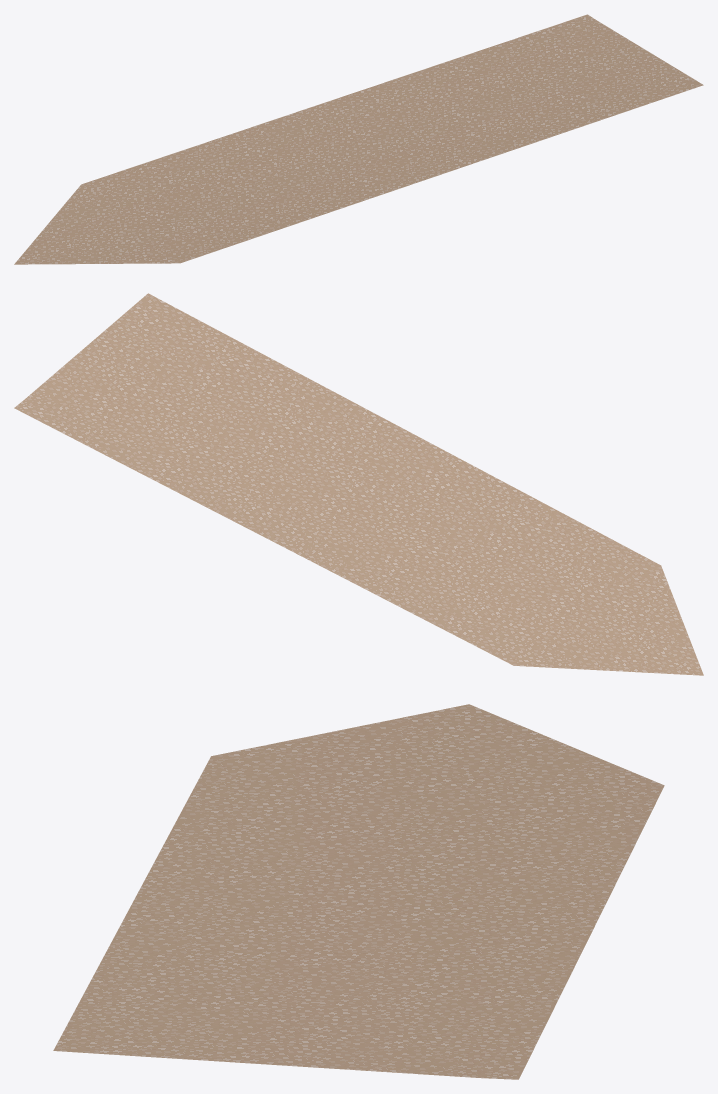
Rendered from kd_stage_1363c5_6_15_bounded.glb.
The picture shows the model from 3 angles, top to bottom: view 1: azimuth 30°, elevation 25°; view 2: azimuth 150°, elevation 25°; view 3: azimuth 270°, elevation 25°; orthographic projection. The views are drawn at different scales.
Parts seen in each view (by area): view 1: kd_stage_1363c5_6_15_bounded; view 2: kd_stage_1363c5_6_15_bounded; view 3: kd_stage_1363c5_6_15_bounded.
Part boxes in pixels (x1,y1,x2,y2): kd_stage_1363c5_6_15_bounded: (14,14,703,264); kd_stage_1363c5_6_15_bounded: (14,293,703,675); kd_stage_1363c5_6_15_bounded: (53,704,664,1079).
Size of the model in its own units: 9.81 by 1.8 by 4.43.
1 material, 1 textured.
